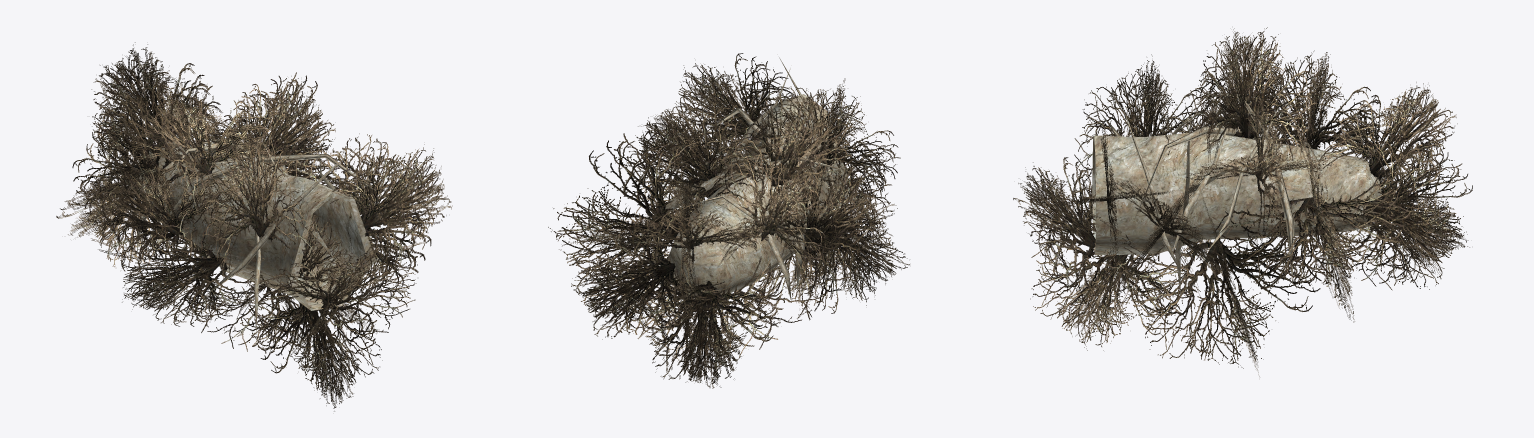
File: poi_all_lair_bramble_light_l1.fbx
3 views of the same model, side by side, from view 1: azimuth 30°, elevation 25°; view 2: azimuth 150°, elevation 25°; view 3: azimuth 270°, elevation 25° (orthographic). The views are drawn at different scales.
Visible parts, largest first — view 1: mesh_node; view 2: mesh_node; view 3: mesh_node.
Part boxes in pixels (bbox=[...]): mesh_node: bbox=[56, 42, 452, 411]; mesh_node: bbox=[548, 53, 909, 388]; mesh_node: bbox=[1013, 27, 1472, 376].
Bounding box in the file's own units: 3.1 × 3.01 × 4.19.
